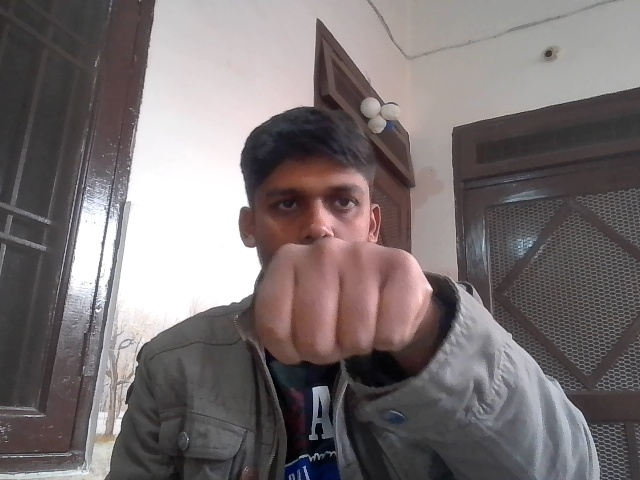Yes: (237, 227, 434, 377)
